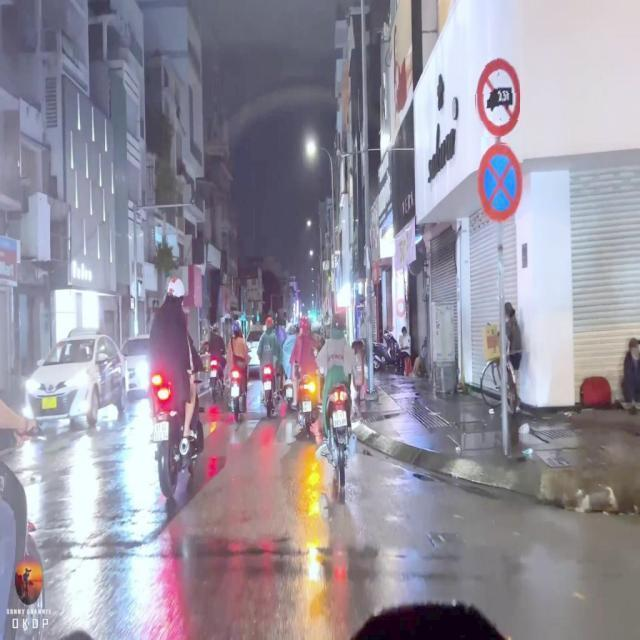106-cam-oto-tai: (474, 53, 520, 137)
130-cam-dung-va-do-xe: (478, 143, 524, 221)
